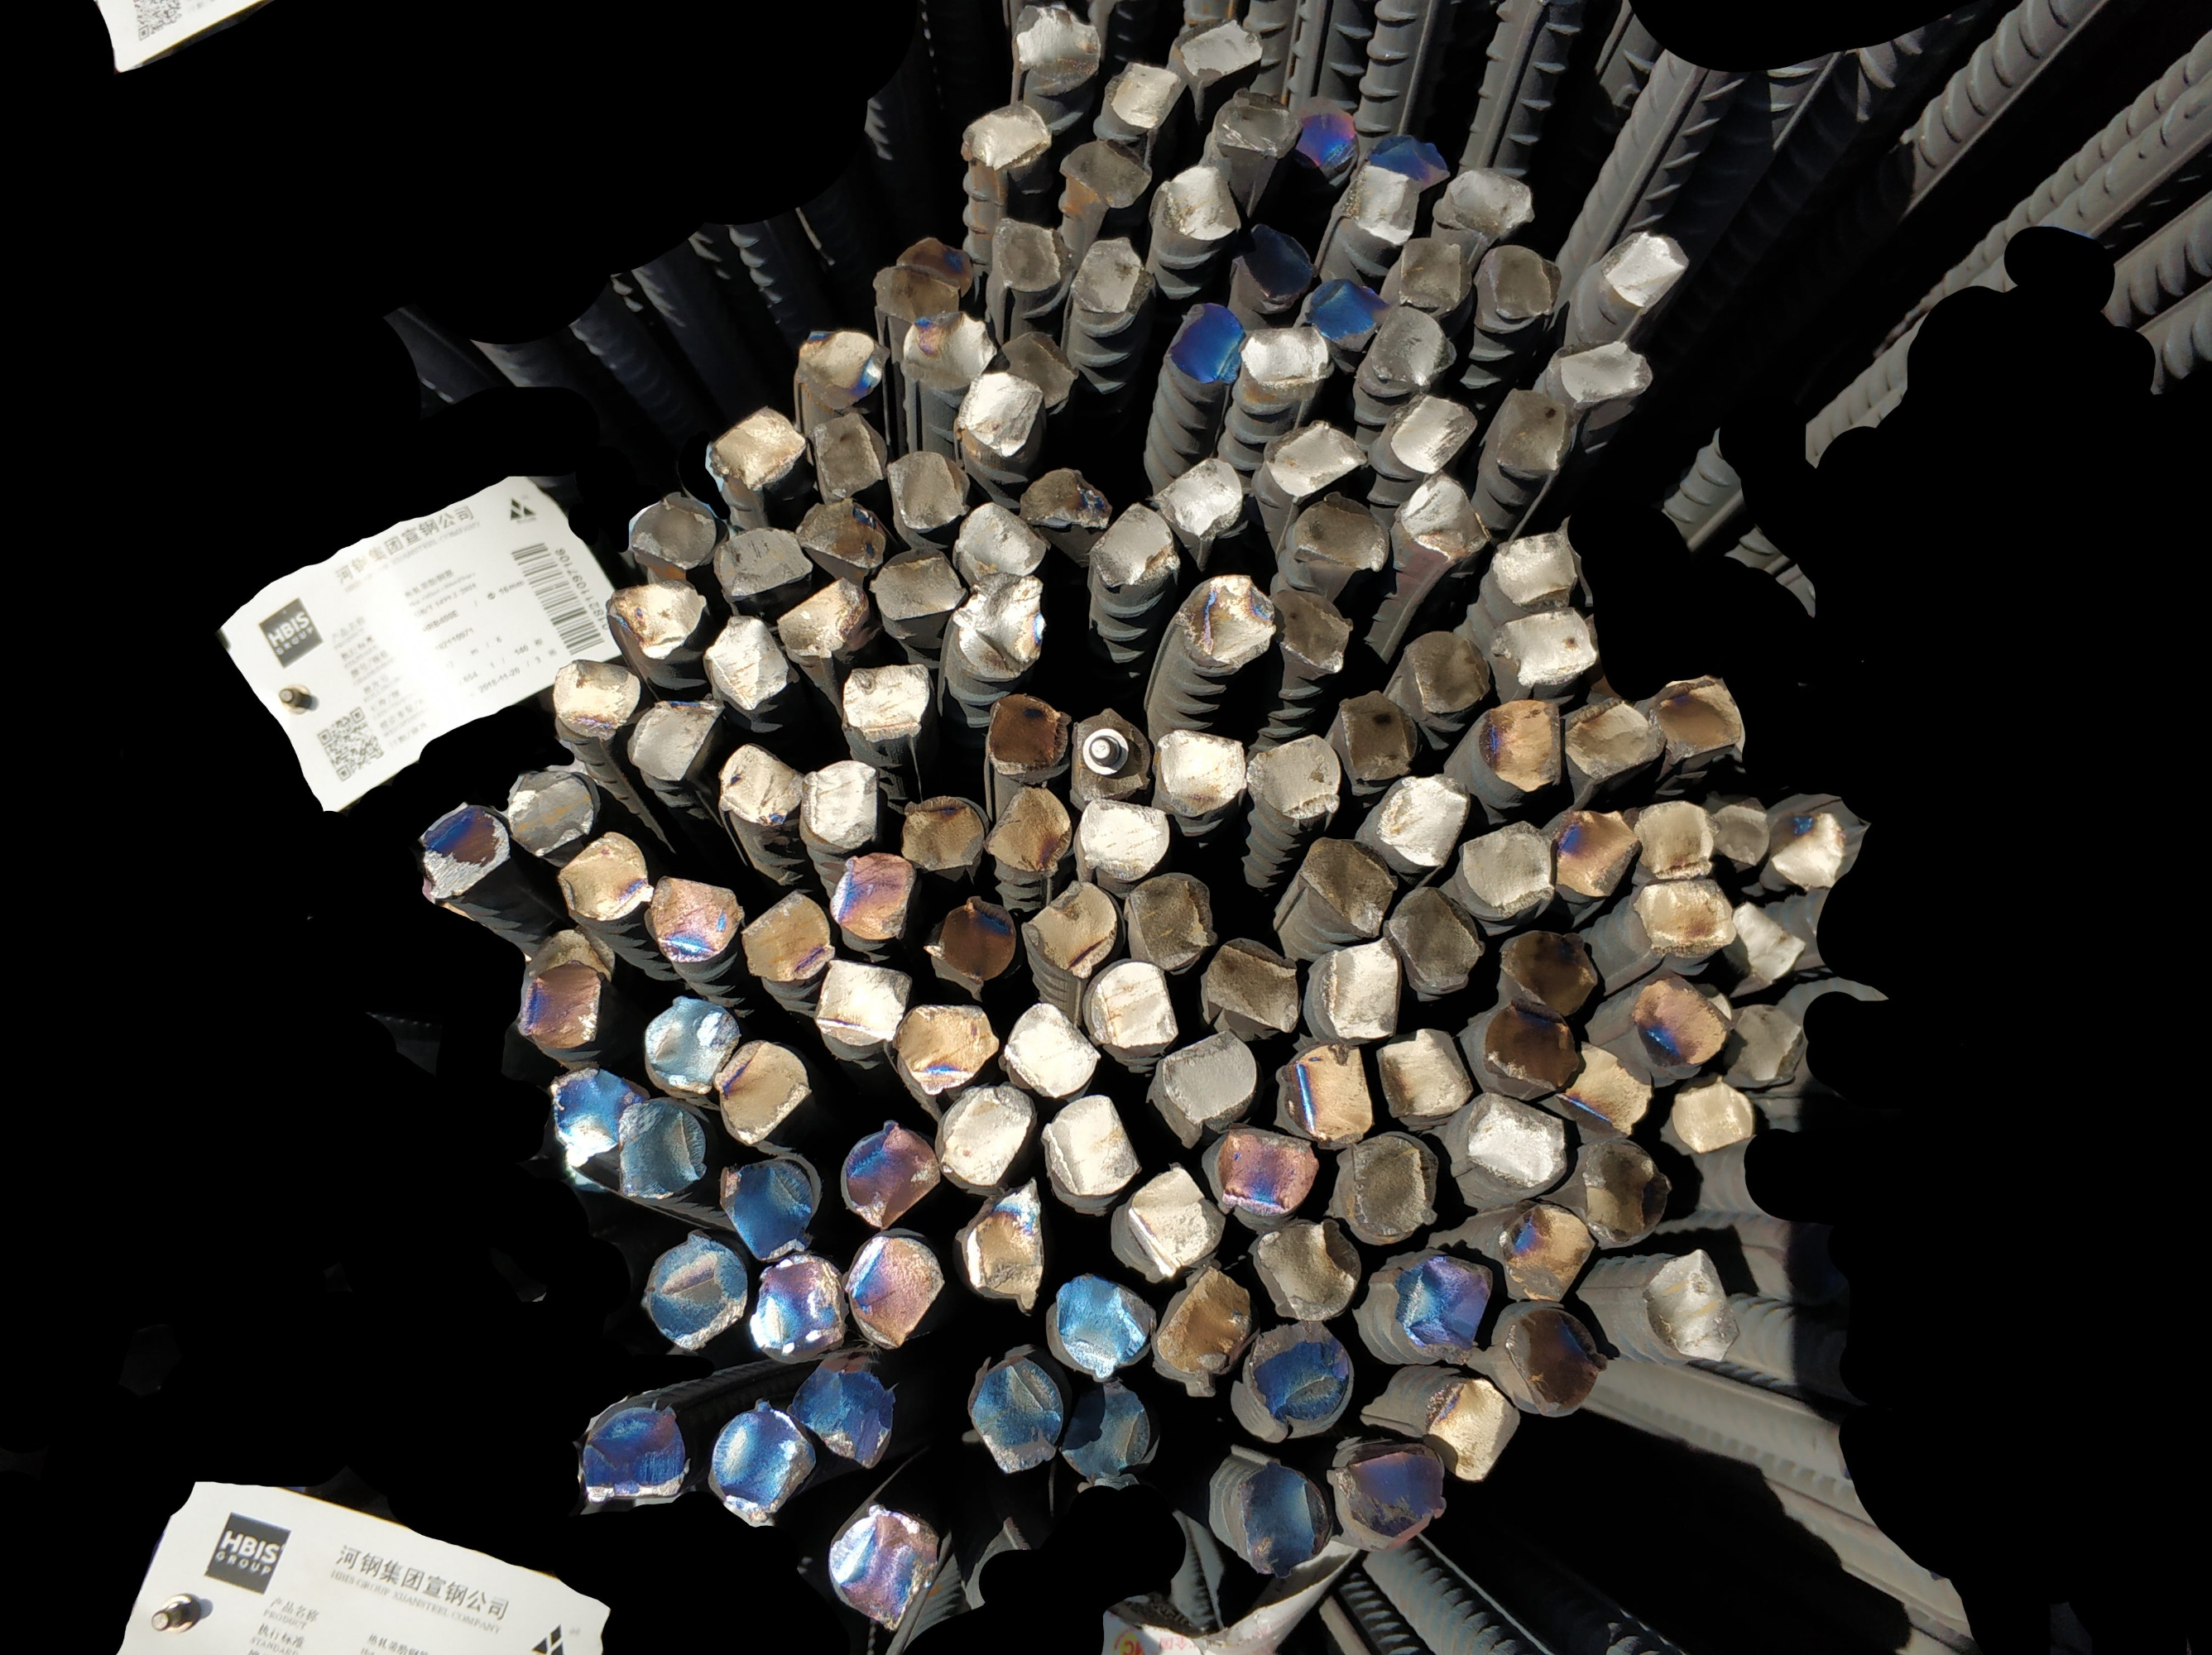rebar: (705, 1398, 817, 1535), (639, 1227, 752, 1354), (825, 1502, 935, 1632), (959, 1347, 1067, 1476), (785, 1358, 902, 1471), (1503, 1306, 1613, 1426), (1232, 1453, 1331, 1582), (711, 1036, 818, 1153), (1420, 1370, 1526, 1485), (745, 1252, 851, 1365), (1050, 1269, 1157, 1379), (1390, 1252, 1501, 1358), (1128, 1165, 1234, 1276), (843, 1231, 938, 1353), (841, 1116, 944, 1229), (963, 1177, 1046, 1314), (1041, 1088, 1143, 1200), (1251, 1316, 1352, 1429), (1197, 934, 1307, 1036), (1387, 881, 1489, 991), (1253, 1219, 1364, 1319), (1156, 1029, 1262, 1133), (1018, 874, 1123, 980), (580, 1401, 688, 1504), (1156, 1266, 1251, 1380), (1646, 1246, 1741, 1361), (718, 1153, 820, 1259), (933, 1081, 1034, 1189), (1336, 1443, 1446, 1542), (890, 1000, 1003, 1095), (1209, 1121, 1322, 1217), (1340, 1132, 1442, 1236), (544, 1064, 645, 1170), (1296, 831, 1395, 939), (1467, 1088, 1571, 1189), (954, 570, 1048, 681), (1581, 1135, 1675, 1246), (1055, 1377, 1152, 1483), (1124, 867, 1218, 977), (1176, 568, 1275, 671), (1500, 1200, 1599, 1302), (419, 801, 514, 906), (1284, 1040, 1378, 1146), (1562, 1027, 1652, 1137), (641, 993, 737, 1095), (737, 885, 836, 982), (1308, 939, 1404, 1040), (553, 827, 655, 921), (617, 1095, 709, 1200), (1378, 1024, 1474, 1123), (645, 871, 745, 965), (1263, 414, 1371, 501), (1006, 1000, 1100, 1099), (1458, 819, 1557, 913), (1498, 928, 1602, 1017), (1084, 956, 1180, 1052), (978, 782, 1072, 880), (924, 895, 1022, 989), (1482, 996, 1580, 1090), (1566, 694, 1666, 782), (606, 574, 709, 661), (1498, 603, 1604, 687), (1374, 774, 1468, 867), (1152, 723, 1246, 817), (1548, 807, 1640, 902), (1640, 967, 1727, 1067), (1397, 469, 1493, 560), (1244, 732, 1341, 821), (1086, 501, 1183, 589), (626, 699, 725, 784), (1291, 494, 1394, 575), (952, 367, 1043, 459), (813, 953, 907, 1041), (1154, 454, 1248, 542), (792, 325, 888, 412), (831, 852, 917, 947), (1632, 876, 1738, 954), (507, 765, 598, 855), (1649, 676, 1745, 761), (718, 739, 806, 829), (1079, 794, 1171, 881), (1480, 699, 1566, 793), (707, 402, 803, 485), (1672, 1066, 1758, 1156), (1011, 2, 1103, 87), (902, 309, 996, 393), (1387, 389, 1480, 473), (775, 575, 871, 657), (702, 612, 784, 708), (839, 661, 935, 742), (1072, 704, 1152, 801), (518, 960, 603, 1050), (1404, 628, 1491, 715), (1267, 584, 1352, 673), (1369, 302, 1454, 391), (1162, 299, 1248, 388), (1628, 796, 1719, 880), (1341, 687, 1421, 781), (884, 449, 971, 534), (996, 327, 1077, 417), (987, 690, 1072, 775), (554, 657, 641, 741), (1724, 897, 1807, 984), (1602, 229, 1692, 309), (801, 758, 879, 850), (957, 101, 1055, 174), (869, 546, 966, 619), (1156, 160, 1244, 240), (1732, 994, 1804, 1093), (714, 527, 811, 598), (810, 412, 888, 501), (1493, 384, 1567, 476), (1060, 136, 1154, 209), (1069, 235, 1154, 315), (1237, 221, 1317, 304), (1345, 162, 1425, 245), (992, 210, 1070, 296), (898, 794, 983, 873), (1440, 165, 1536, 235), (957, 501, 1046, 575), (1241, 323, 1331, 396), (1484, 240, 1564, 322), (1307, 275, 1390, 353), (1493, 528, 1580, 603), (1555, 342, 1656, 407), (1213, 87, 1303, 158), (1289, 96, 1359, 188), (631, 495, 718, 568), (1176, 16, 1265, 87), (1018, 464, 1114, 530), (796, 501, 886, 570), (1769, 807, 1844, 890), (1397, 236, 1475, 311), (1110, 61, 1189, 134), (523, 925, 615, 986), (893, 235, 975, 301), (1366, 130, 1451, 193), (872, 266, 961, 323), (1708, 789, 1772, 867), (1689, 972, 1734, 1031)
